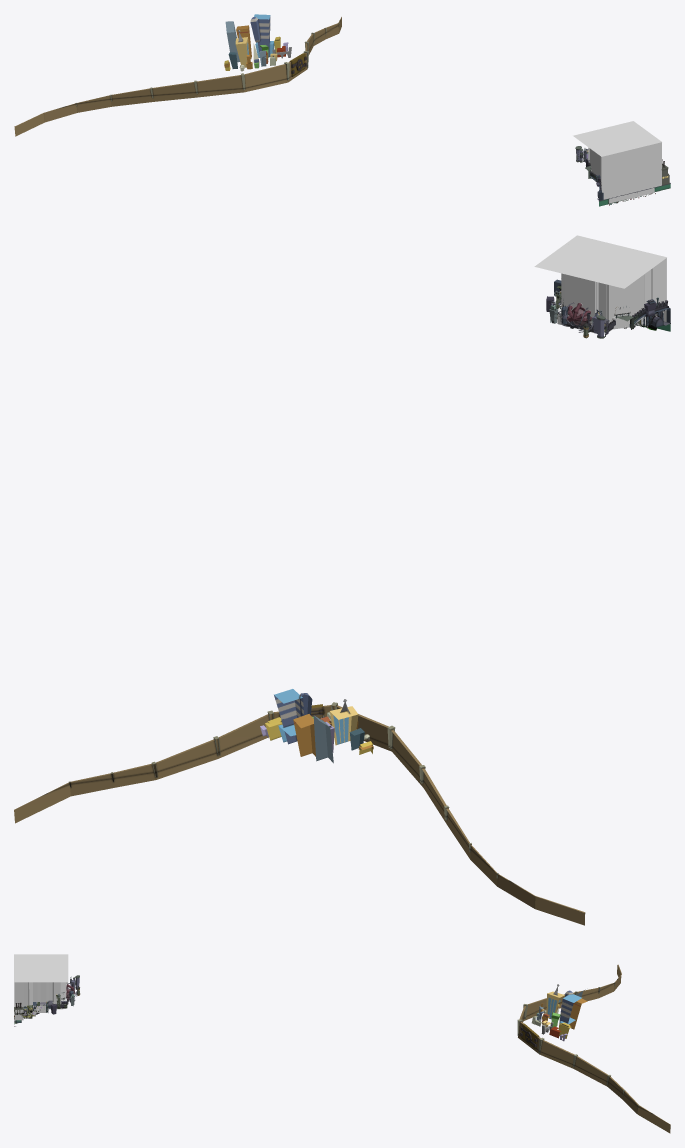
File: Villains_1.fbx
3 views of the same model, one above another, from view 1: azimuth 30°, elevation 25°; view 2: azimuth 150°, elevation 25°; view 3: azimuth 270°, elevation 25° (orthographic). The views are drawn at different scales.
Parts seen in each view (by area): view 1: Villains_Baked8, Villains_Col7, Villains_Col11, Villains_Baked7, Villains_Baked6, Villains_Col9, Villains_Col12; view 2: Villains_Baked8, Villains_Col9, Villains_Col12, Villains_Baked6; view 3: Villains_Baked8, Villains_Col9, Villains_Col12, Villains_Baked7, Villains_Col4, Villains_Col5, Villains_Baked6.
Part boxes in pixels (bbox=[...]): Villains_Baked8: bbox=[14, 14, 341, 136]; Villains_Col7: bbox=[602, 142, 661, 201]; Villains_Col11: bbox=[601, 157, 661, 201]; Villains_Baked7: bbox=[196, 51, 308, 97]; Villains_Baked6: bbox=[241, 53, 306, 92]; Villains_Col9: bbox=[573, 121, 661, 141]; Villains_Col12: bbox=[573, 136, 661, 156]; Villains_Baked8: bbox=[14, 689, 585, 925]; Villains_Col9: bbox=[534, 235, 623, 288]; Villains_Col12: bbox=[577, 235, 666, 288]; Villains_Baked6: bbox=[274, 321, 573, 751]; Villains_Baked8: bbox=[531, 964, 670, 1133]; Villains_Col9: bbox=[14, 954, 68, 982]; Villains_Col12: bbox=[14, 954, 67, 981]; Villains_Baked7: bbox=[518, 998, 546, 1054]; Villains_Col4: bbox=[23, 982, 41, 1018]; Villains_Col5: bbox=[40, 982, 58, 1012]; Villains_Baked6: bbox=[78, 994, 539, 1042].
Size of the model in its own units: 1569 by 632 by 2671.
Materials: 53 (17 with a texture image).
